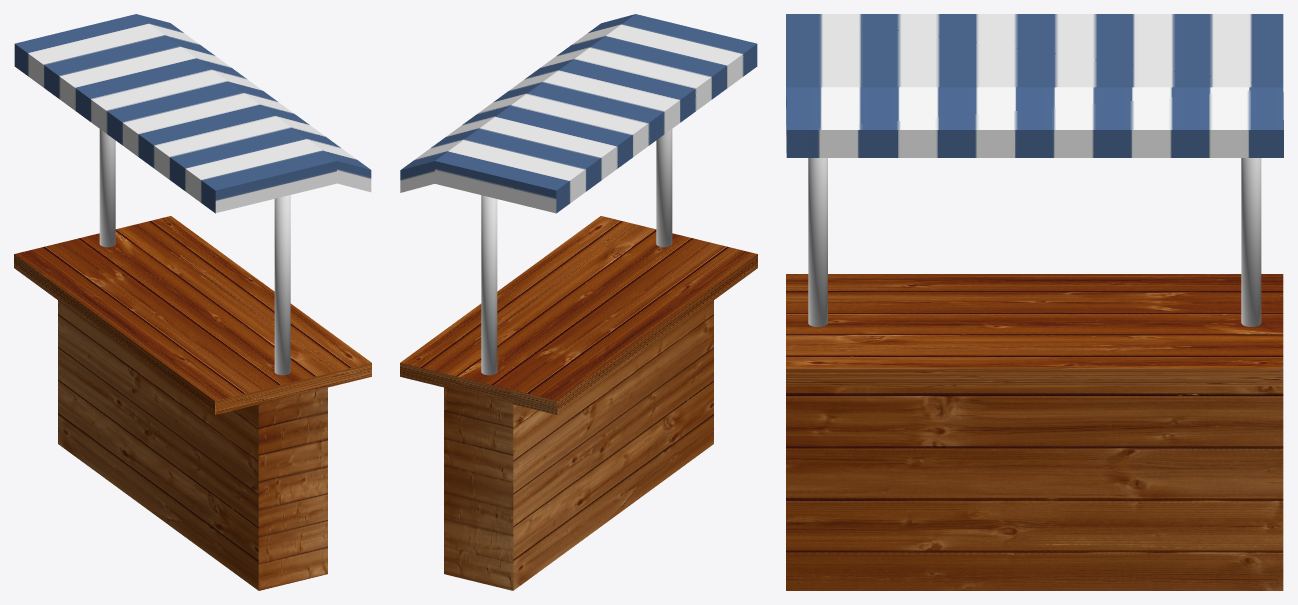
File: piac01_02.fbx
3 renders of one model, left to right at view 1: azimuth 30°, elevation 25°; view 2: azimuth 150°, elevation 25°; view 3: azimuth 270°, elevation 25°, orthographic. The views are drawn at different scales.
Visible parts, largest first — view 1: alap; view 2: alap; view 3: alap.
Part boxes in pixels (x1,y1,x2,y2): alap: [14, 14, 371, 590]; alap: [400, 14, 757, 590]; alap: [786, 14, 1283, 590].
Bounding box in the file's own units: 90.26 × 226 × 200.
4 materials, 3 textured.
